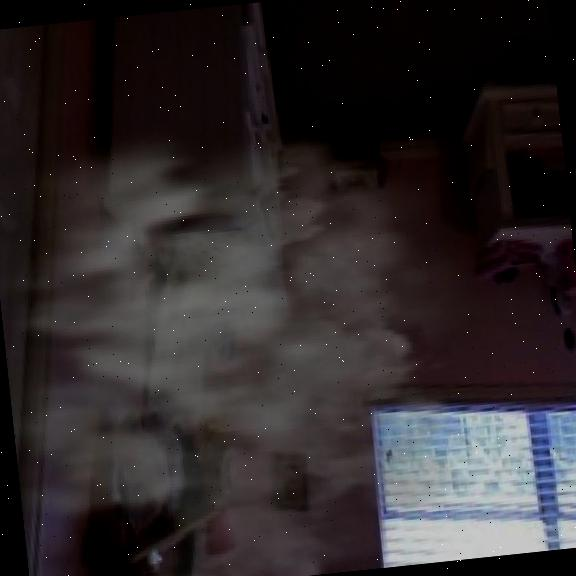smoke: (137, 149, 464, 462)
